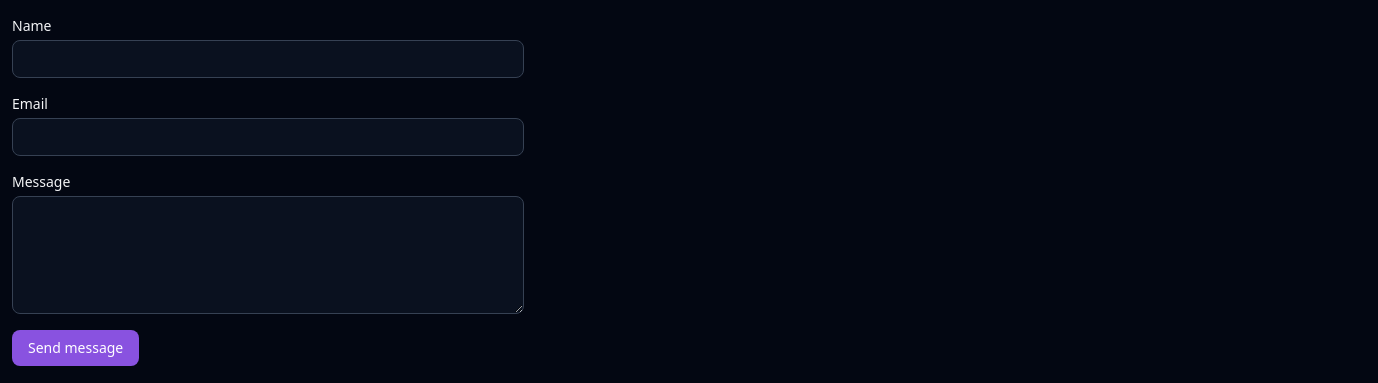
Test: <ContactForm /> › submits valid input and shows the success state
This screenshot has width=1378, height=383.
Type "Yens" into the field labelled "Name".
click(268, 59); type("Yens")  # box [12,40,524,78]
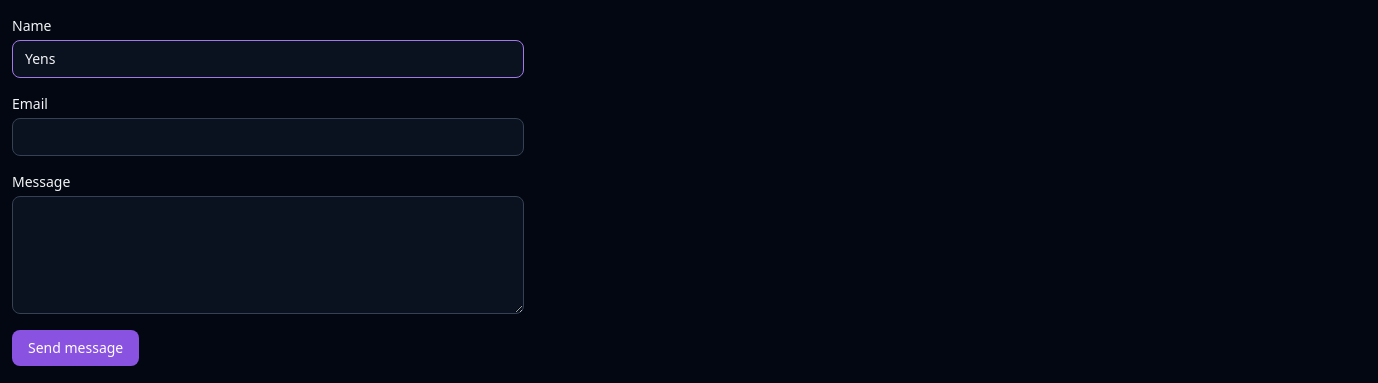
Type "yens@example.com" into the field labelled "Email".
click(268, 137); type("yens@example.com")  # box [12,118,524,156]
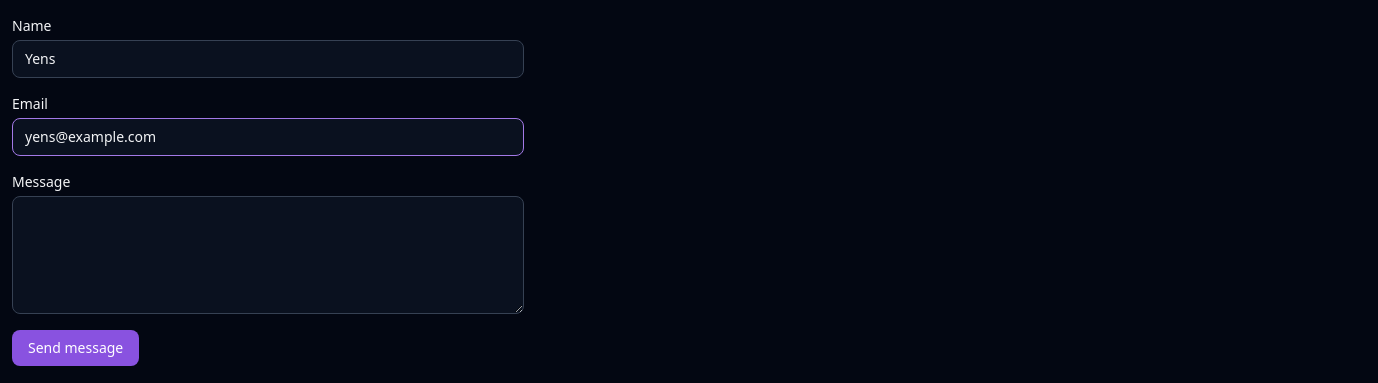
Type "Hello! This message is long enough to pass validation." into the text box labelled "Message".
click(268, 255); type("Hello! This message is long enough to pass validation.")  # box [12,196,524,314]
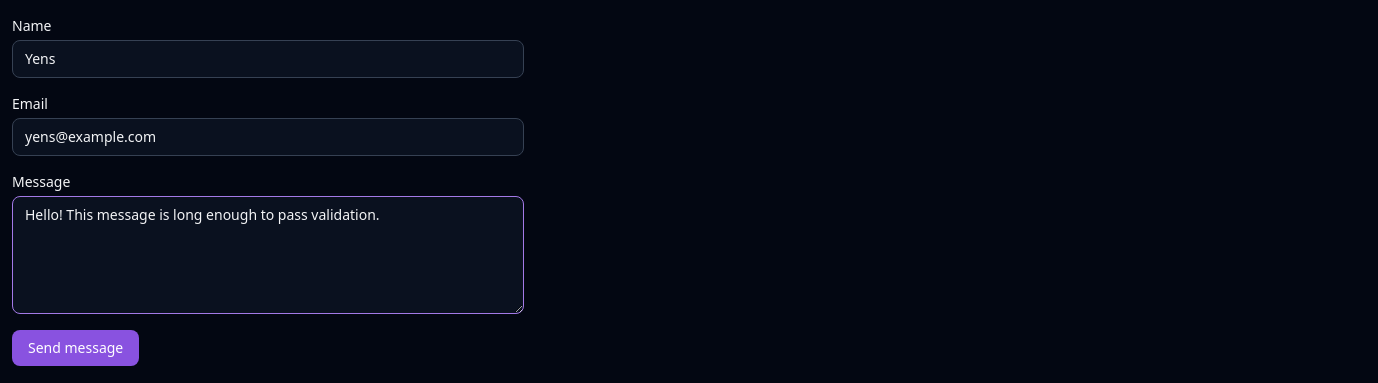
Click the button "Send message".
click(76, 348)  # box [12,330,139,366]
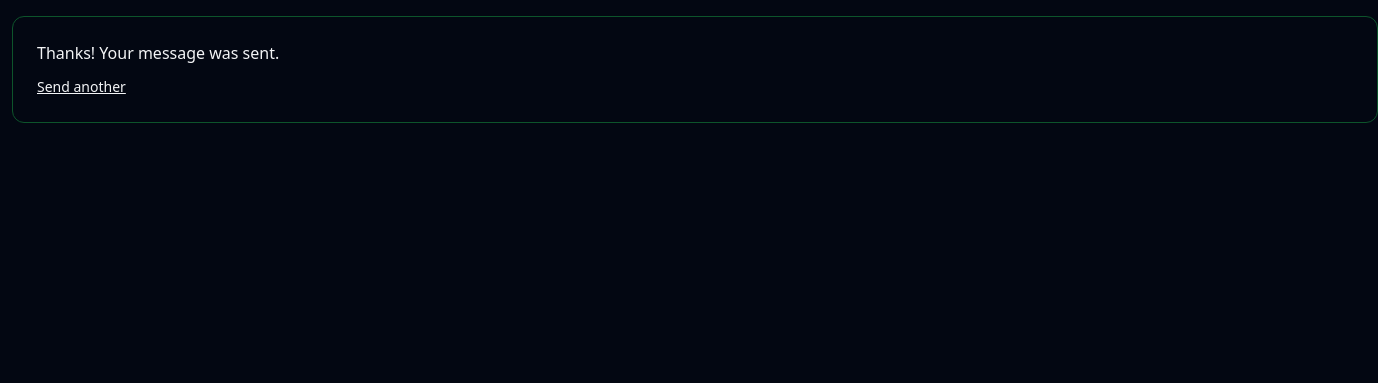
Check: the text "Thanks! Your message was sent." is shown, box [37,42,279,64]
